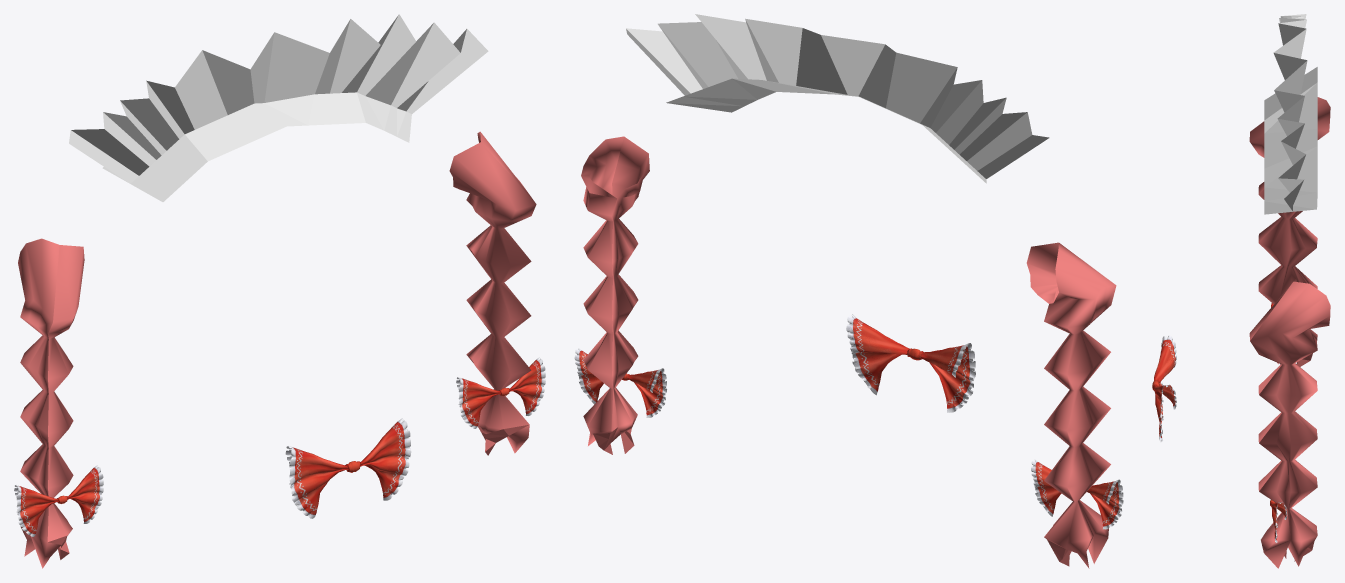
Rendered from sakuya.part.fbx.
The picture shows the model from 3 angles, left to right: view 1: azimuth 30°, elevation 25°; view 2: azimuth 150°, elevation 25°; view 3: azimuth 270°, elevation 25°; orthographic projection. The views are drawn at different scales.
Visible parts, largest first — view 1: Cylinder, hair, ribon_1.002, ribon_1, ribon_1.001; view 2: Cylinder, hair, ribon_1.002, ribon_1, ribon_1.001; view 3: hair, Cylinder, ribon_1.002, ribon_1.001.
Boxes of the visible parts, bbox=[...] form: Cylinder: bbox=[69, 14, 488, 201]; hair: bbox=[18, 131, 536, 568]; ribon_1.002: bbox=[285, 418, 411, 518]; ribon_1: bbox=[14, 465, 103, 536]; ribon_1.001: bbox=[456, 357, 545, 428]; Cylinder: bbox=[626, 14, 1049, 183]; hair: bbox=[581, 136, 1116, 568]; ribon_1.002: bbox=[846, 314, 975, 412]; ribon_1: bbox=[1031, 459, 1123, 529]; ribon_1.001: bbox=[574, 348, 666, 417]; hair: bbox=[1249, 97, 1330, 568]; Cylinder: bbox=[1264, 14, 1317, 214]; ribon_1.002: bbox=[1152, 335, 1176, 441]; ribon_1.001: bbox=[1270, 500, 1287, 542].
Bounding box in the file's own units: 610 × 512 × 201.
